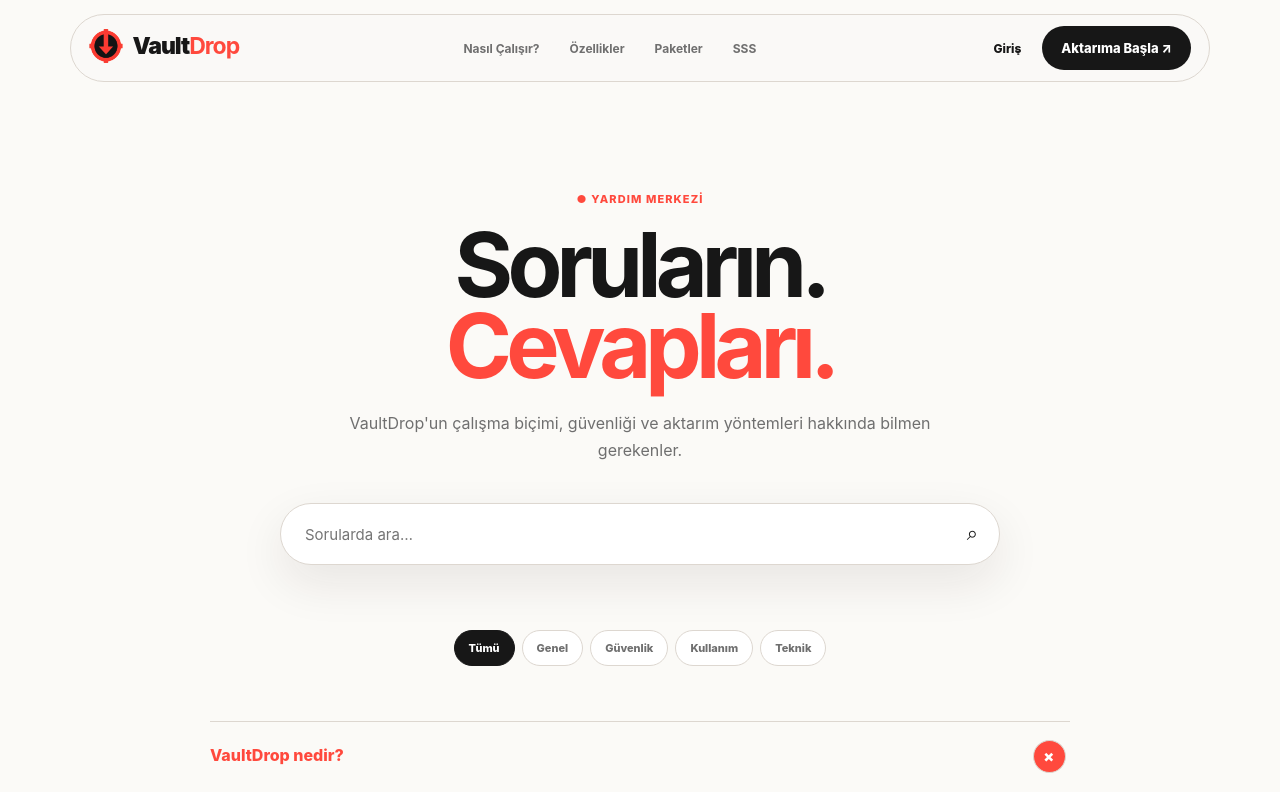
FaqPage › soruları metne göre filtreler
In the search field: (640, 534) [280,503,1000,565], type "anahtar"
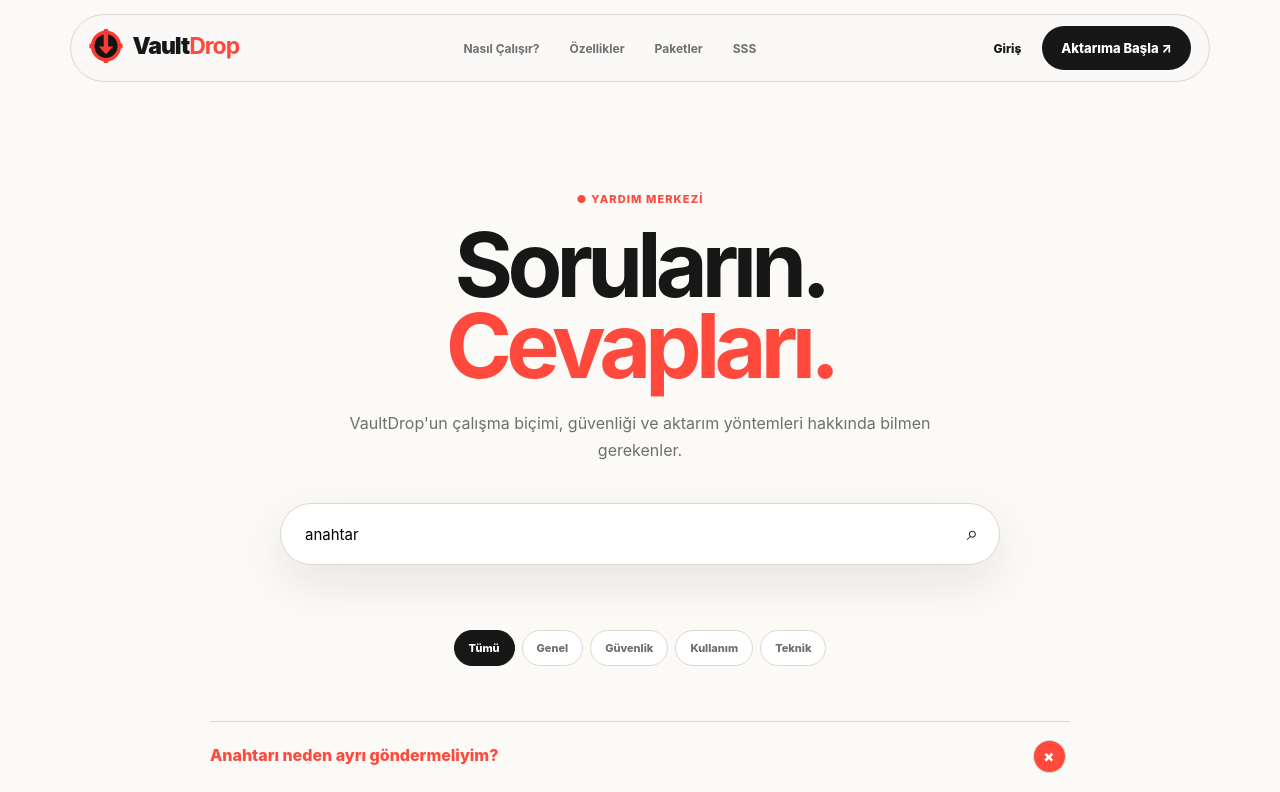
Expected: the heading "Anahtarı neden ayrı göndermeliyim?" is shown, [210,745,498,765]
Now the heading "VaultDrop nedir?" is gone
